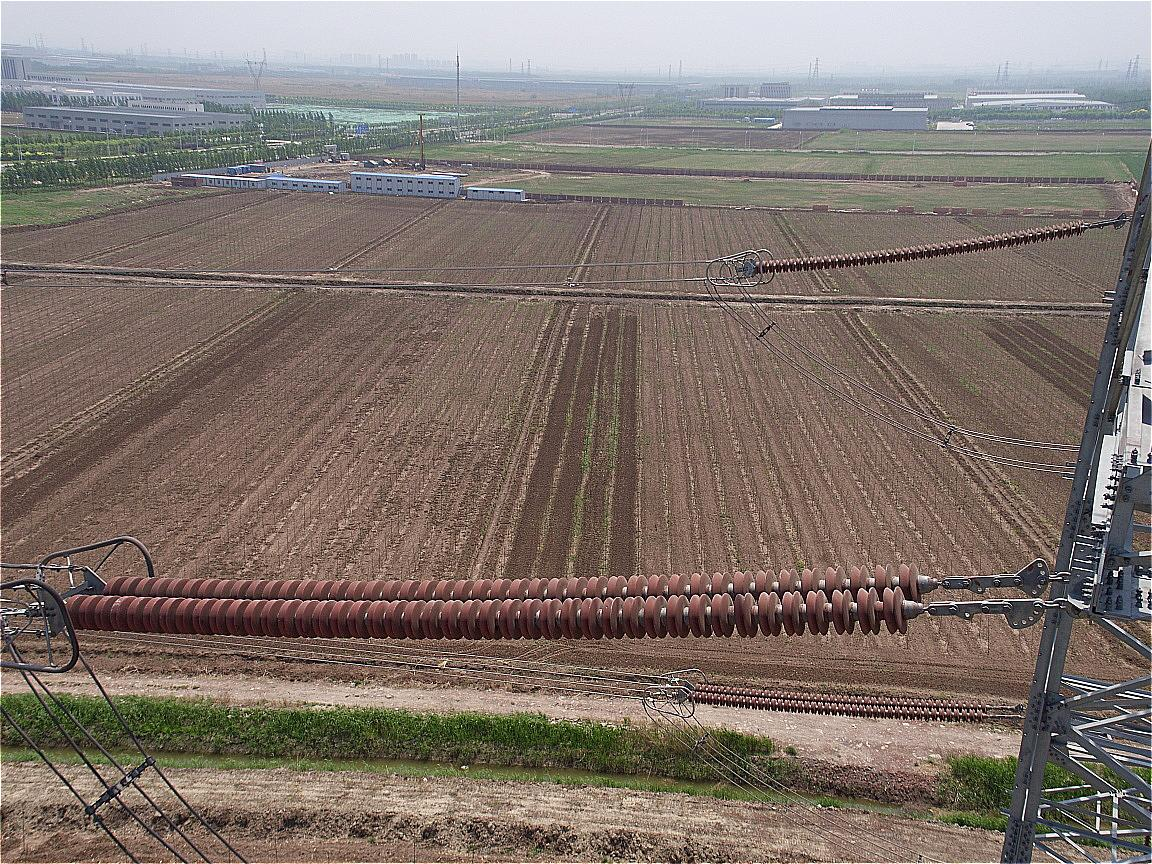insultor2: (65, 562, 921, 639), (753, 216, 1088, 279)
